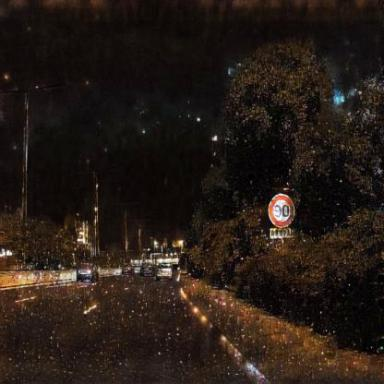Speed_limit_90: (269, 195, 296, 226)
